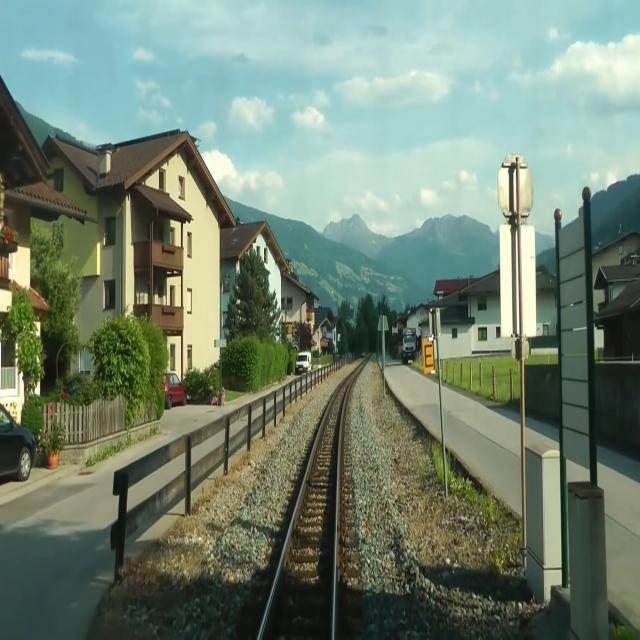rail-track: (261, 376, 351, 639)
